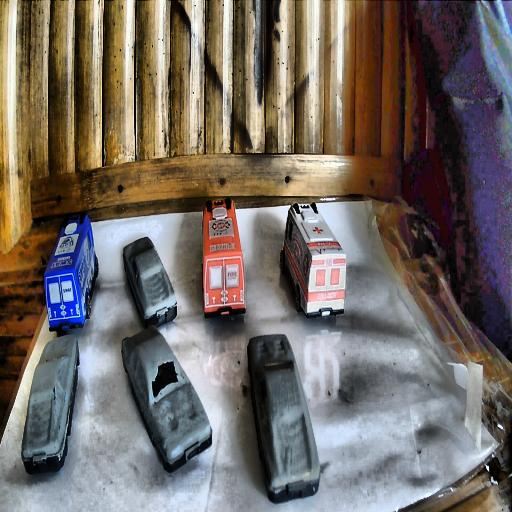ambulance: (282, 201, 346, 318)
fire_truck: (202, 199, 247, 319)
normal_car: (121, 325, 211, 473), (248, 334, 321, 502), (20, 332, 80, 476), (122, 234, 178, 332)
police car: (43, 210, 97, 331)
